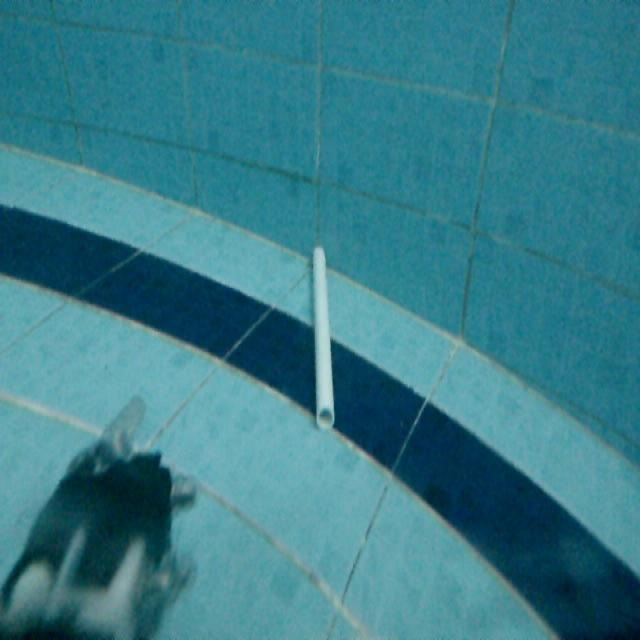Cube: (307, 240, 338, 432)
